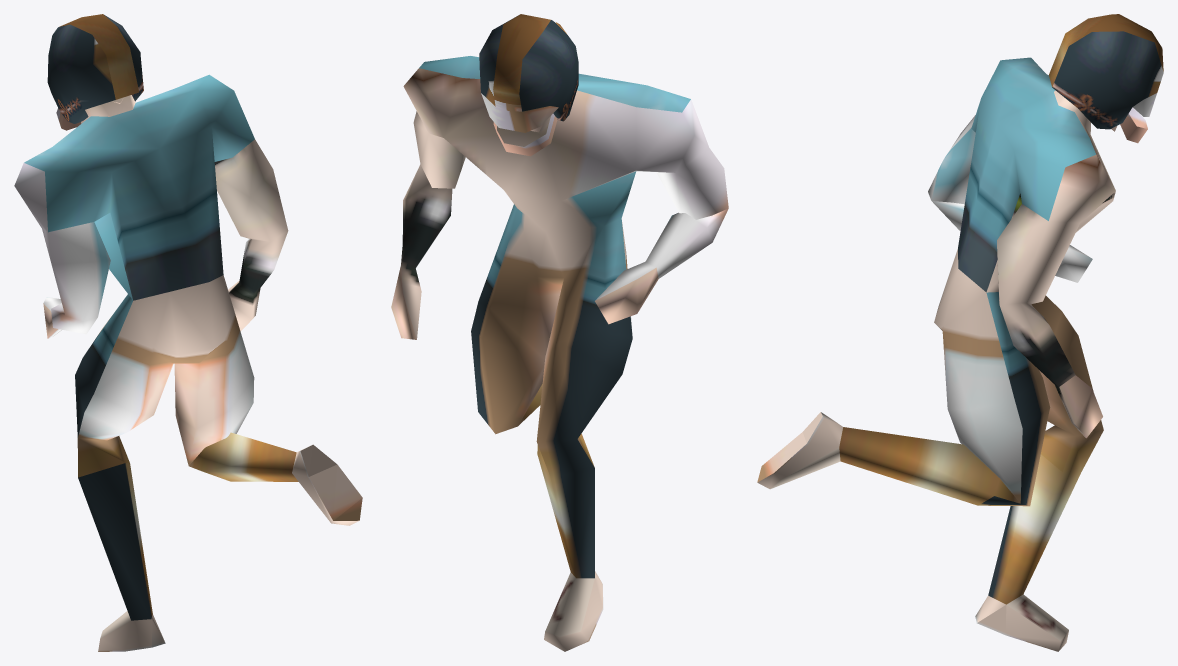
Rendered from view.ico.obj.
The picture shows the model from 3 angles, left to right: view 1: azimuth 30°, elevation 25°; view 2: azimuth 150°, elevation 25°; view 3: azimuth 270°, elevation 25°; orthographic projection. The views are drawn at different scales.
Bounding box in the file's own units: 2.1 × 4.51 × 2.63.
